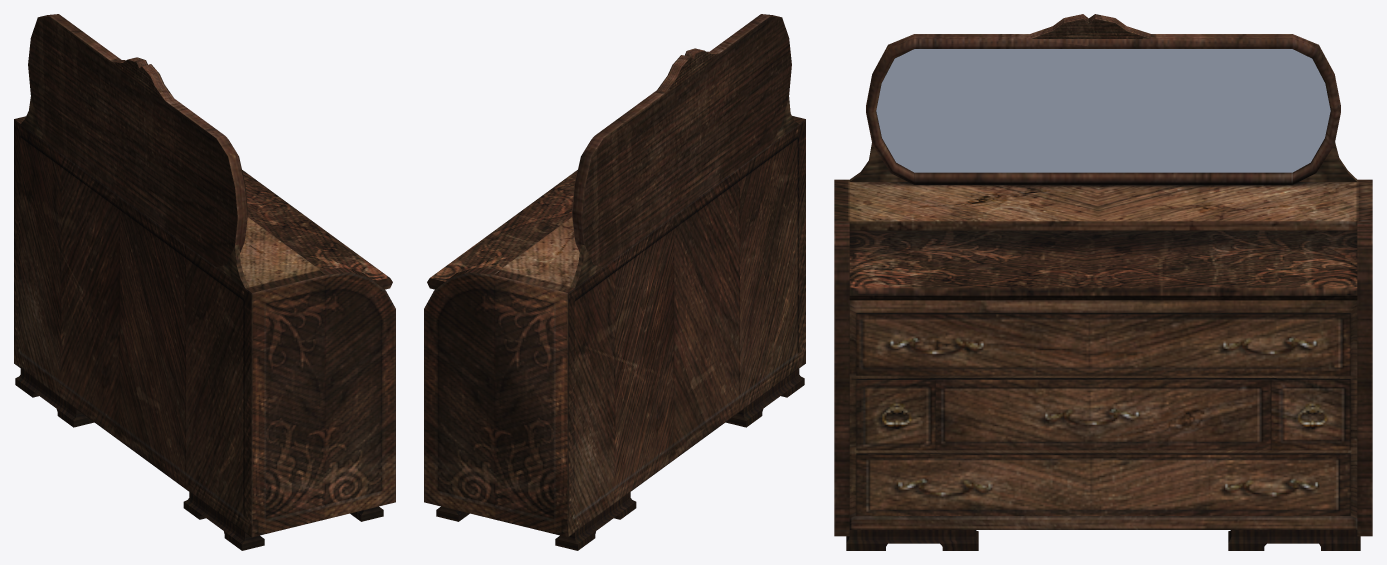
Rendered from M_Home_Garden_Dresser.fbx.
The picture shows the model from 3 angles, left to right: view 1: azimuth 30°, elevation 25°; view 2: azimuth 150°, elevation 25°; view 3: azimuth 270°, elevation 25°; orthographic projection. The views are drawn at different scales.
Parts seen in each view (by area): view 1: M_Home_Garden_Dresser; view 2: M_Home_Garden_Dresser; view 3: M_Home_Garden_Dresser.
Boxes of the visible parts, left/top/right/bottom form: M_Home_Garden_Dresser: left=14, top=14, right=395, bottom=550; M_Home_Garden_Dresser: left=424, top=14, right=805, bottom=550; M_Home_Garden_Dresser: left=834, top=14, right=1372, bottom=550.
Size of the model in its own units: 65.64 by 168 by 177.
